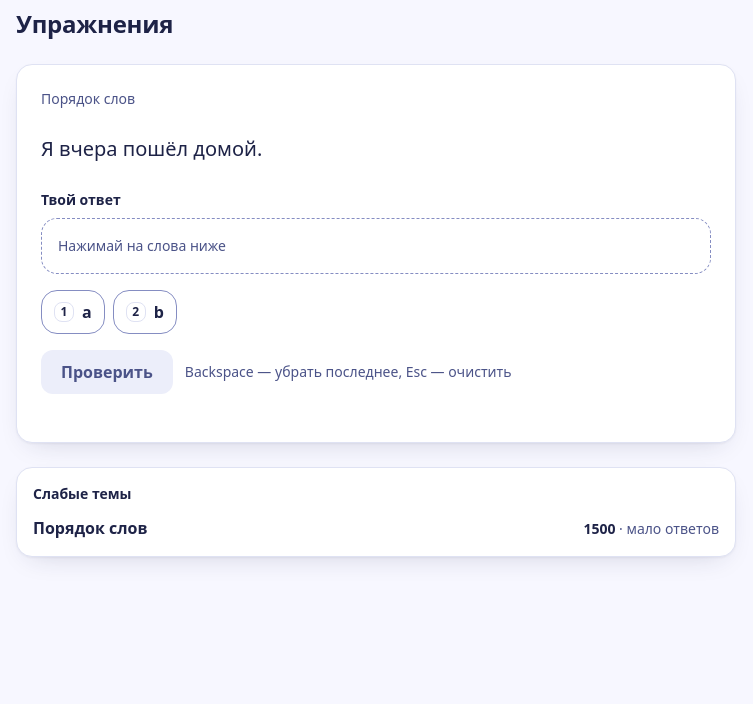
Test case: OrderExercise › кнопка «Проверить» доступна только когда использованы все плитки
Expected: the text "Я вчера пошёл домой." is shown, [41,135,262,162]
Expected: the button "Проверить" is disabled, [41,350,173,394]
Type keys "21"
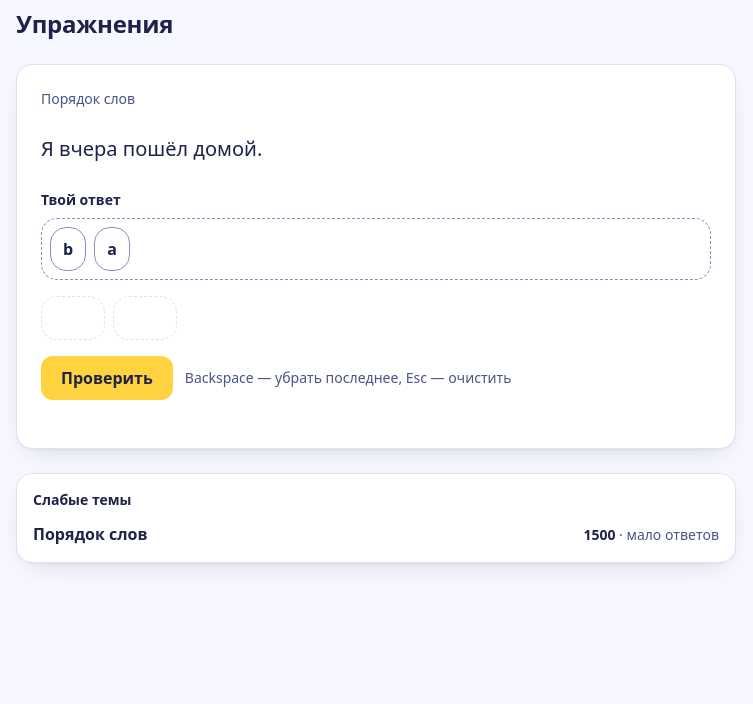
Expected: the button "Проверить" is enabled
Click the button "Проверить" at (107, 378), box [41,356,173,400]
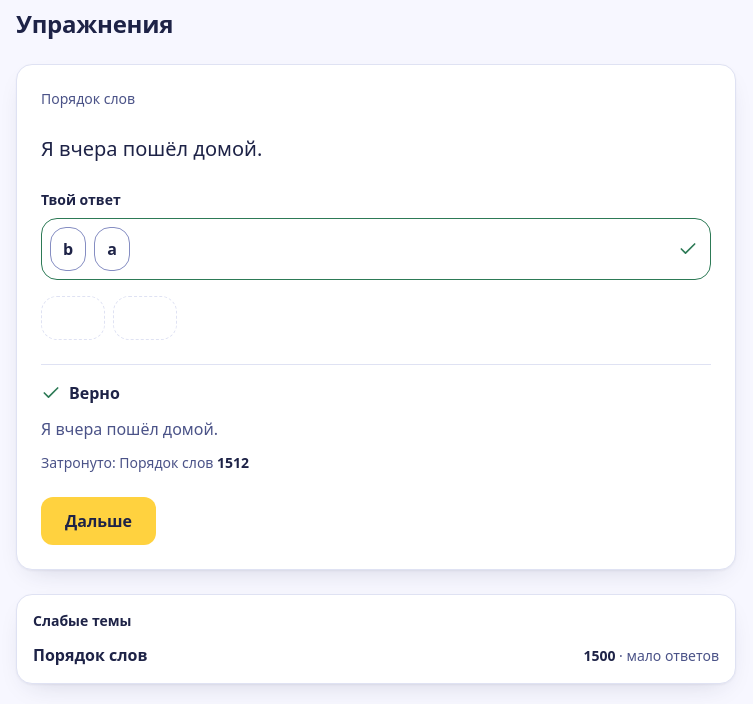
Expected: the text "Верно" is shown, [41,382,120,404]
